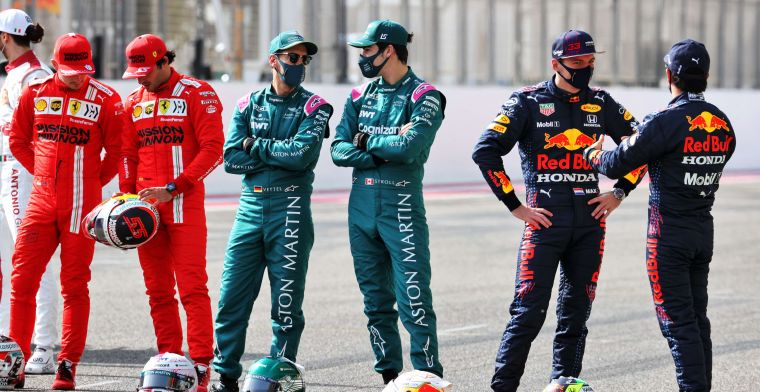with_mask: (562, 53, 595, 88), (280, 50, 309, 86), (359, 44, 389, 78)
